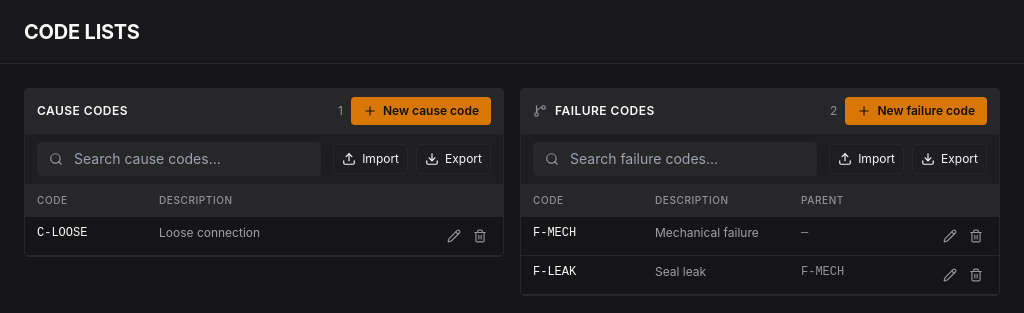
CodeListsPage cause/failure management (tracker v1.1-16) › deletes a cause code
Click the button named "delete cause code c-loose". click: (480, 236)
box: [469, 225, 491, 247]
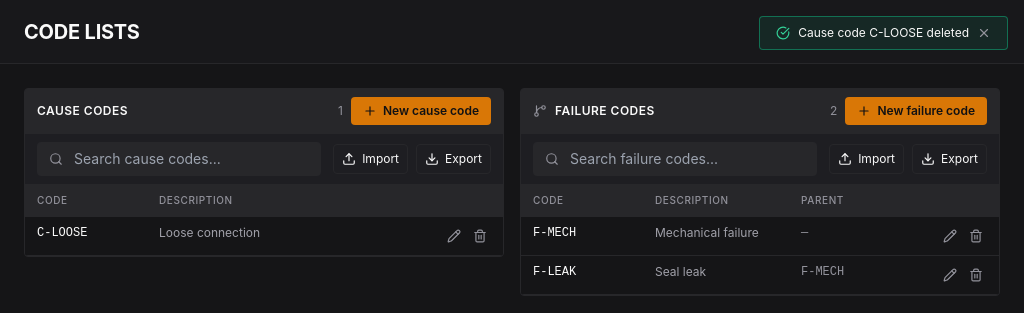
Expected: the text "Cause code C-LOOSE deleted" is shown, [798, 25, 969, 41]
